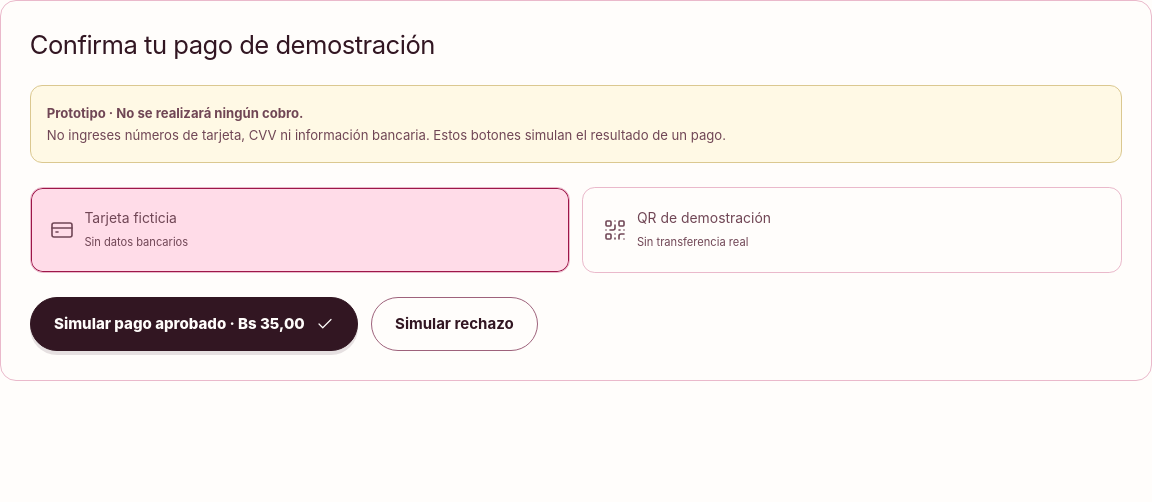
Test case: Pago de demostración › permite retomar el mismo pedido y la compra directa después de iniciar sesión
Click the button "Simular pago aprobado · Bs 35,00" at (194, 324), box [30,297,358,351]
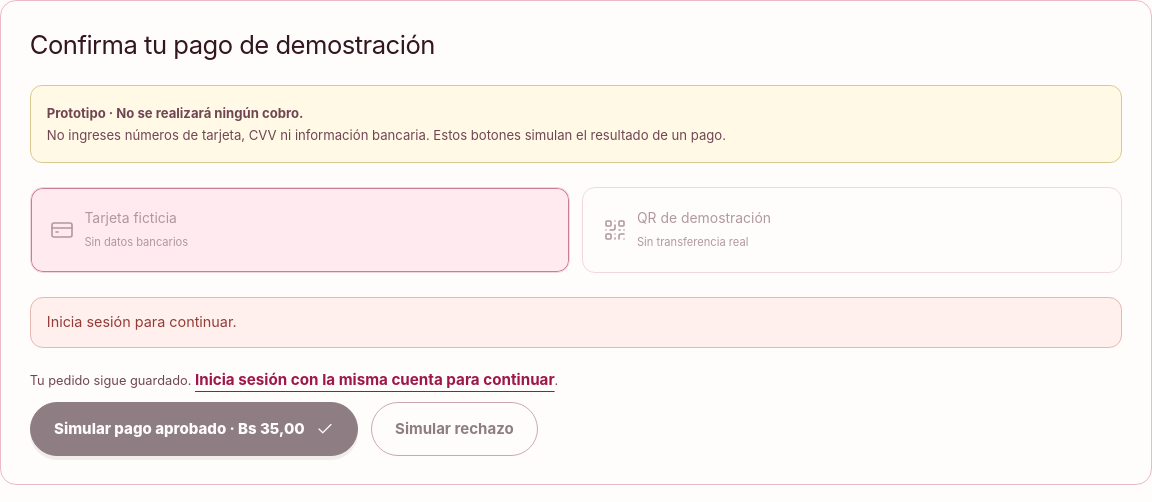
Expected: the button "Simular pago aprobado · Bs 35,00" is disabled, [30,402,358,456]
Expected: the button "Simular rechazo" is disabled, [371,402,538,456]
